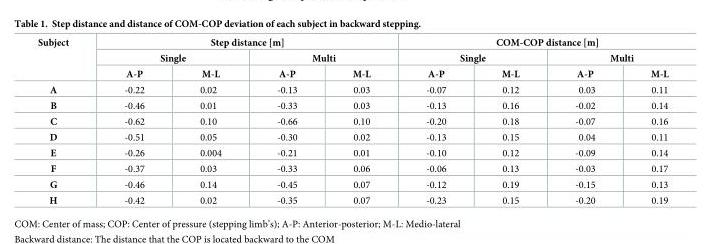table: (37, 37, 667, 205)
table column: (171, 37, 248, 205), (95, 37, 171, 205), (248, 37, 324, 205), (397, 37, 473, 205), (546, 37, 622, 205), (324, 37, 397, 205), (473, 37, 546, 205), (37, 37, 95, 205), (622, 37, 667, 205)
table column header: (37, 37, 667, 81)
table row: (37, 65, 667, 81), (37, 81, 667, 97), (37, 97, 667, 113), (37, 113, 667, 129), (37, 144, 667, 160), (37, 160, 667, 176), (37, 176, 667, 192), (37, 50, 667, 65), (37, 129, 667, 144), (37, 37, 667, 50), (37, 192, 667, 205)
table spanning cell: (95, 37, 397, 50), (397, 37, 667, 50), (37, 37, 95, 81), (95, 50, 248, 65), (248, 50, 397, 65), (397, 50, 546, 65), (546, 50, 667, 65)
